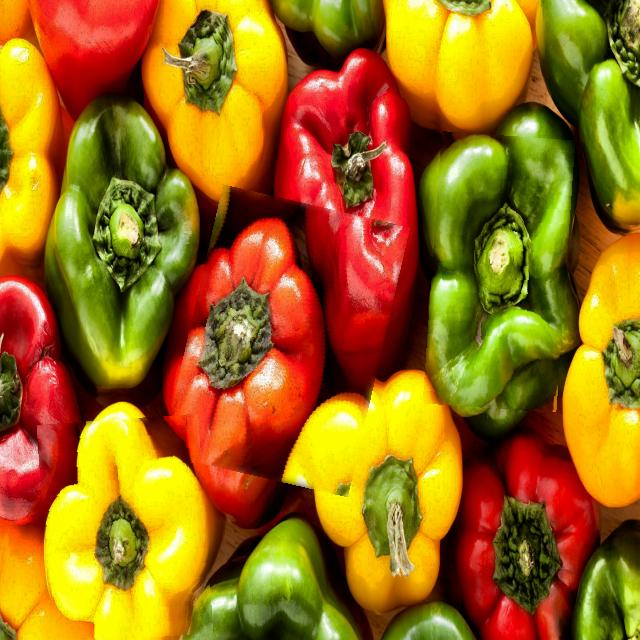capsicum: (40, 416, 209, 640)
green pepper: (428, 133, 571, 410)
red capsicum: (176, 193, 396, 488)
